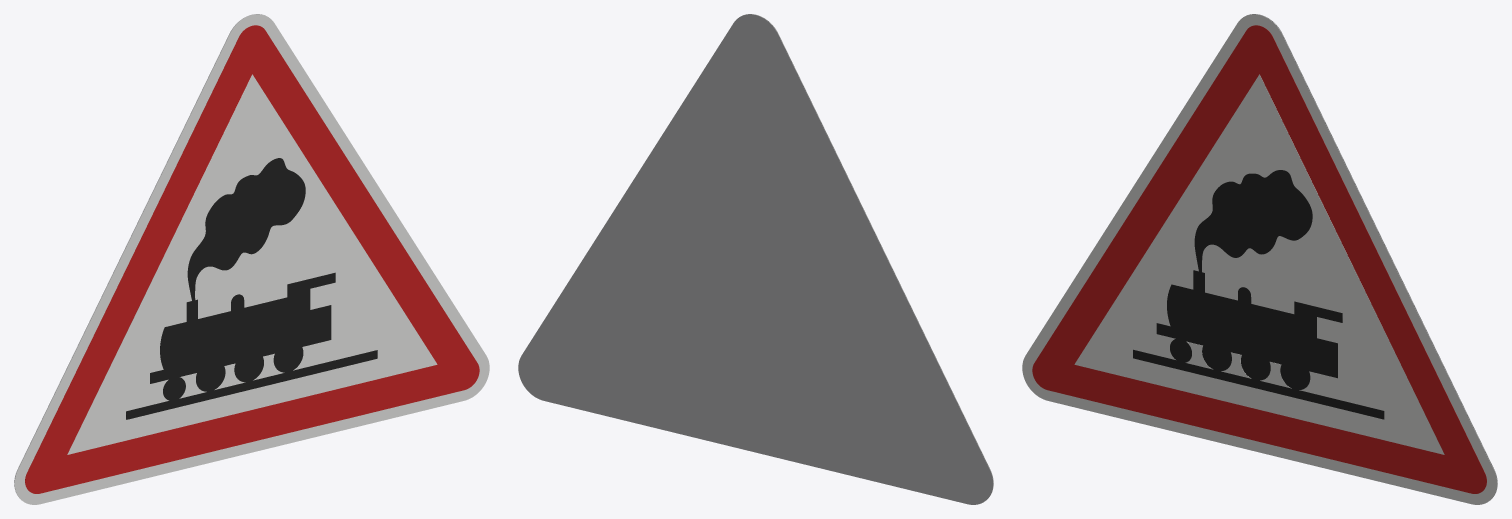
3 views of the same model, side by side, from view 1: azimuth 30°, elevation 25°; view 2: azimuth 150°, elevation 25°; view 3: azimuth 330°, elevation 25° (orthographic).
Parts seen in each view (by area): view 1: A8_p01, A8_p02, A8_p03, A8_p00, A8_dos; view 2: A8_dos, A8_p00; view 3: A8_p01, A8_p02, A8_p03, A8_p00, A8_dos.
Part boxes in pixels (x1=…): A8_p01: x1=25, y1=25, x2=479, y2=493; A8_p02: x1=67, y1=74, x2=437, y2=454; A8_p03: x1=126, y1=158, x2=377, y2=419; A8_p00: x1=14, y1=14, x2=489, y2=504; A8_dos: x1=14, y1=14, x2=265, y2=500; A8_dos: x1=518, y1=14, x2=993, y2=504; A8_p00: x1=742, y1=14, x2=993, y2=500; A8_p01: x1=1032, y1=25, x2=1486, y2=493; A8_p02: x1=1074, y1=74, x2=1444, y2=454; A8_p03: x1=1133, y1=170, x2=1384, y2=419; A8_p00: x1=1022, y1=14, x2=1497, y2=504; A8_dos: x1=1246, y1=14, x2=1497, y2=500.
Size of the model in its own units: 1 by 0.8803 by 0.0043.
